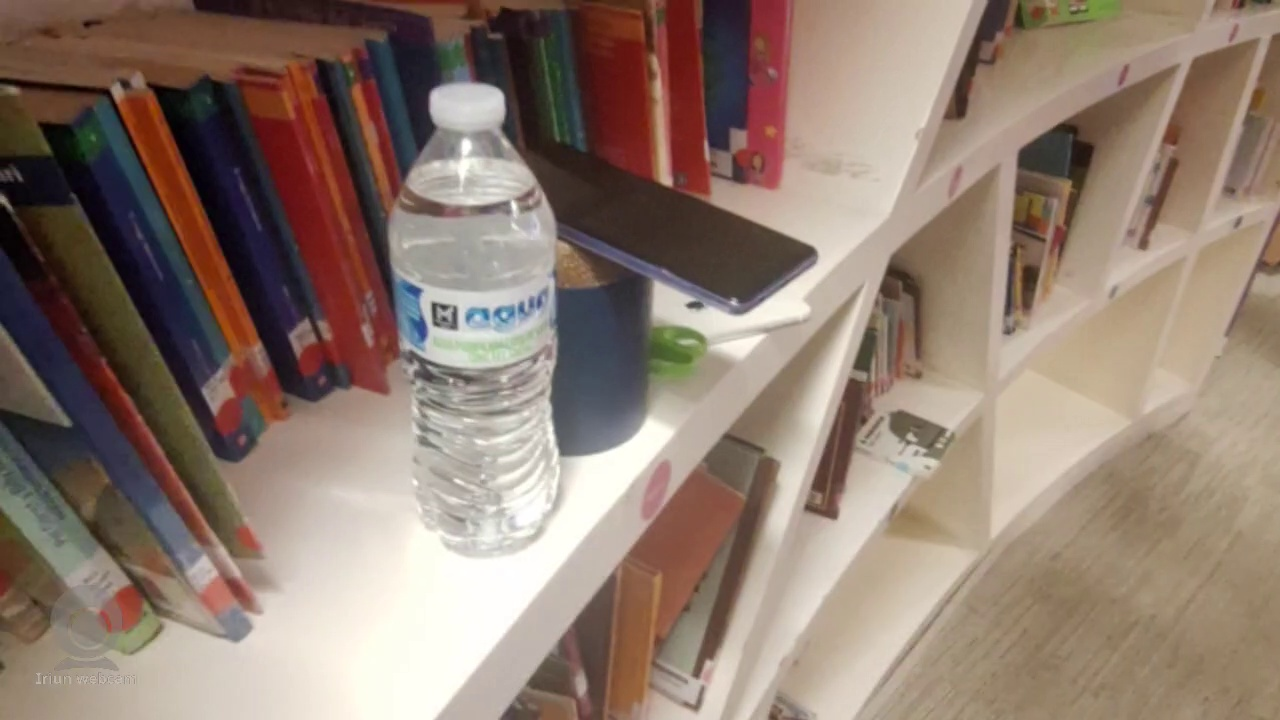botella: (388, 82, 564, 559)
